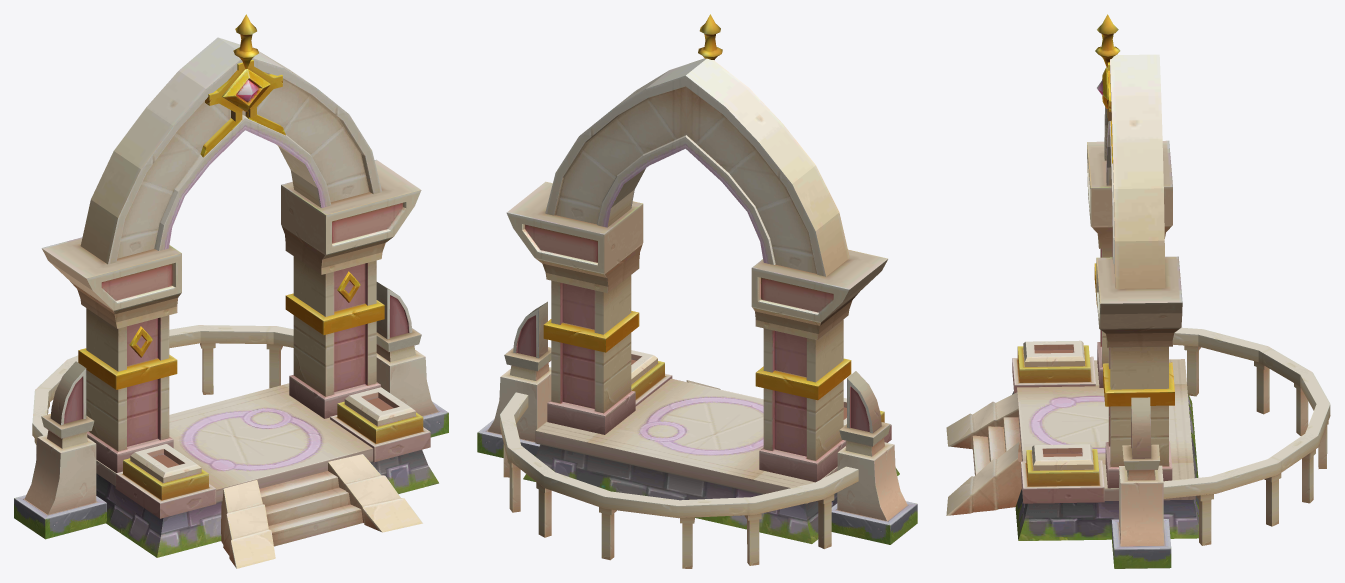
Rendered from ZhuCheng_JianZhu_07.fbx.
3 views of the same model, side by side, from view 1: azimuth 30°, elevation 25°; view 2: azimuth 150°, elevation 25°; view 3: azimuth 270°, elevation 25° (orthographic). The views are drawn at different scales.
Visible parts, largest first — view 1: ZhuCheng_JianZhu_07; view 2: ZhuCheng_JianZhu_07; view 3: ZhuCheng_JianZhu_07.
Part boxes in pixels (x1,y1,x2,y2): ZhuCheng_JianZhu_07: [14, 14, 448, 568]; ZhuCheng_JianZhu_07: [477, 14, 917, 568]; ZhuCheng_JianZhu_07: [946, 14, 1330, 568].
Bounding box in the file's own units: 4.49 × 4.89 × 3.72.
